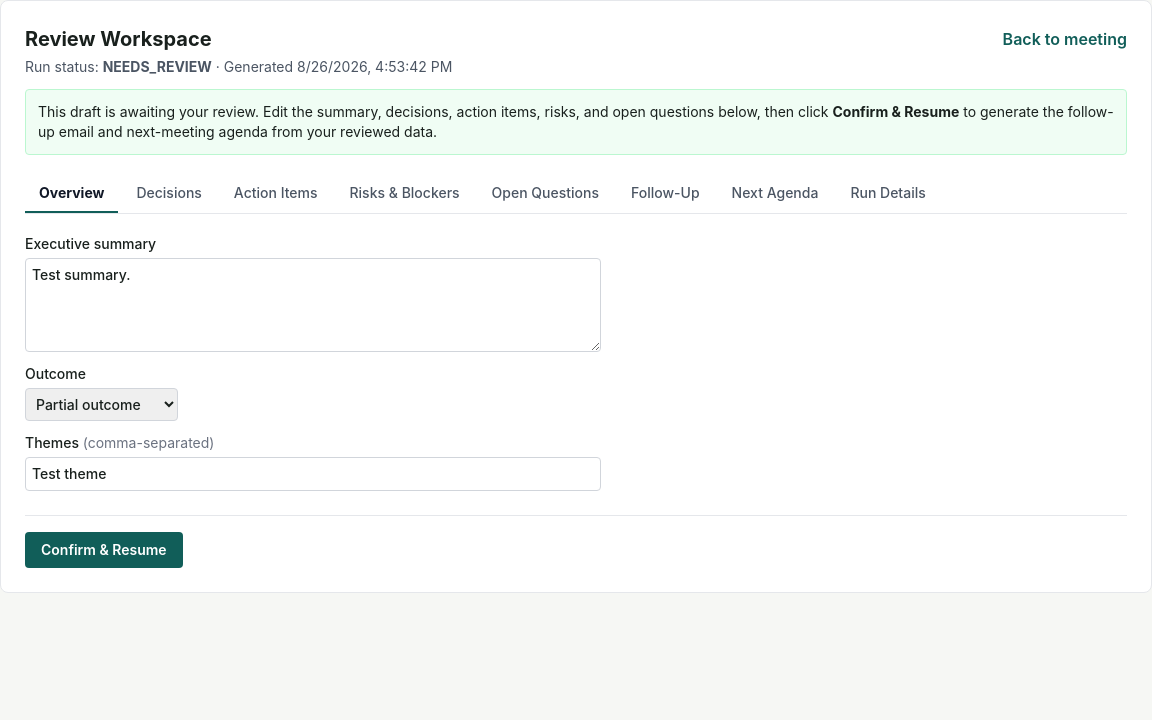
Test: ReviewWorkspacePage — review interaction › lets the user edit a decision and resume the analysis
The image size is (1152, 720).
Expected: the text "awaiting your review" is shown, [38,103,832,120]
Click the button "Decisions" at (169, 194), box [122,175,216,213]
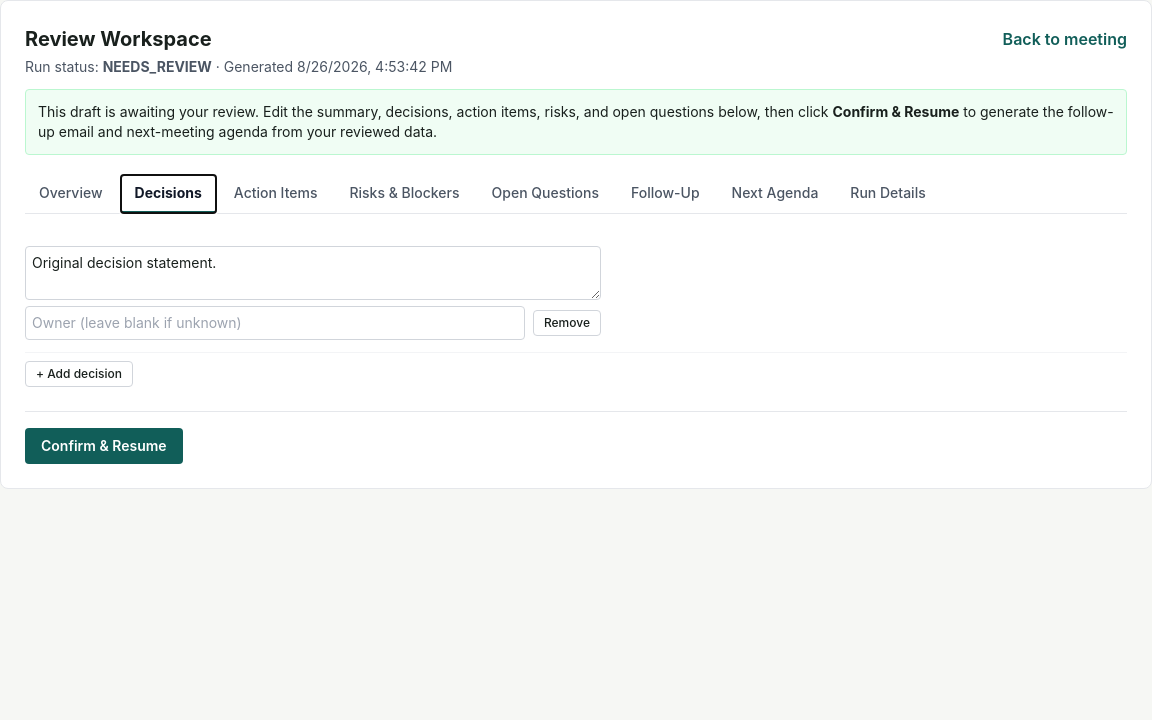
Result: the text box showing "Original decision statement." is shown at [25,246,601,300]
Type "Maya" into the field with placeholder "Owner (leave blank if unknown)" at (275, 323), box [25,306,525,340]
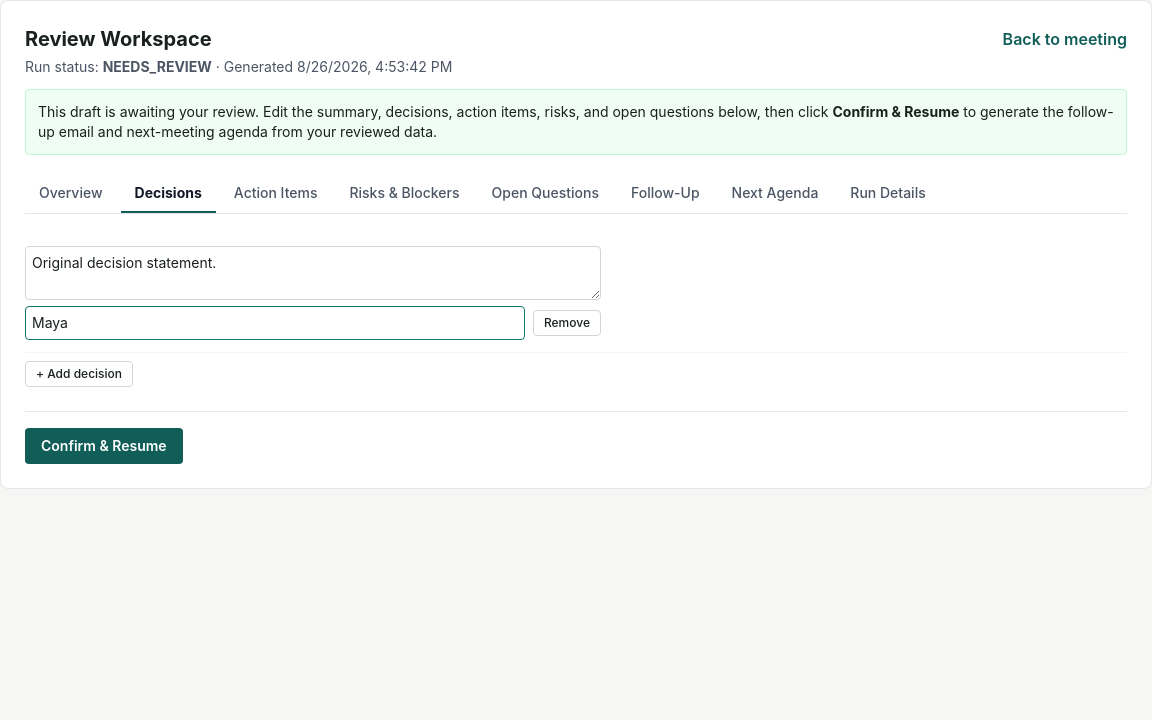
Click the button "Confirm & Resume" at (104, 446), box [25,428,183,464]
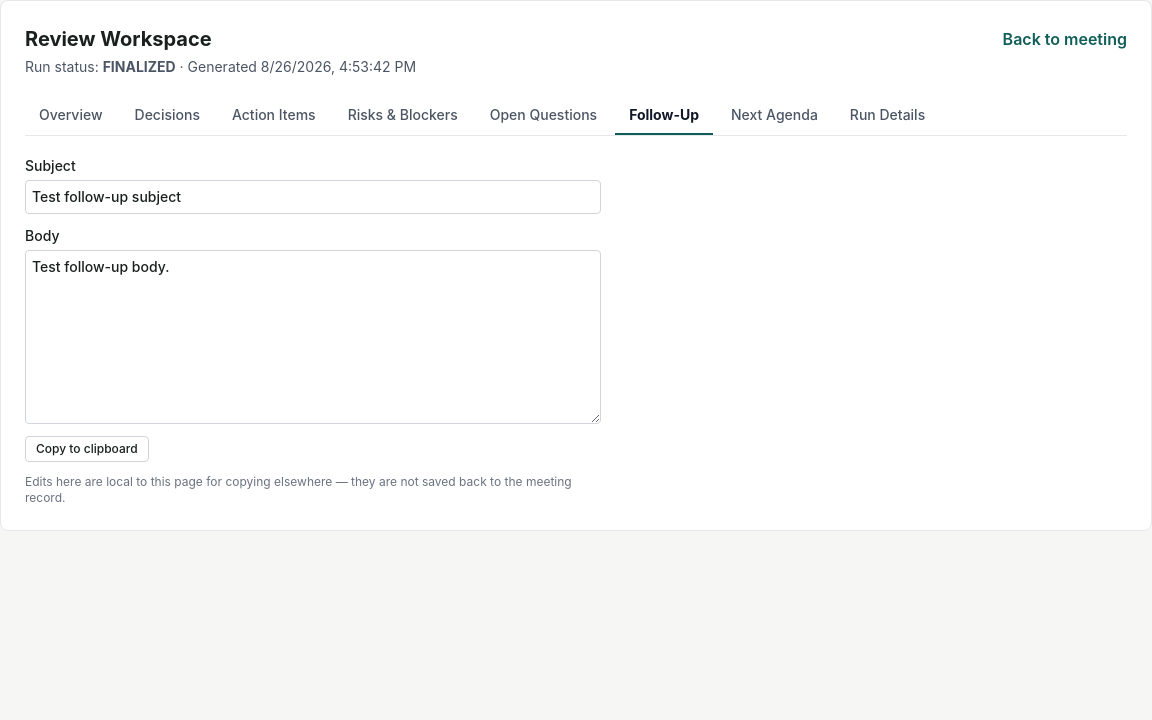
Result: the field showing "Test follow-up subject" is shown at [25,180,601,214]
